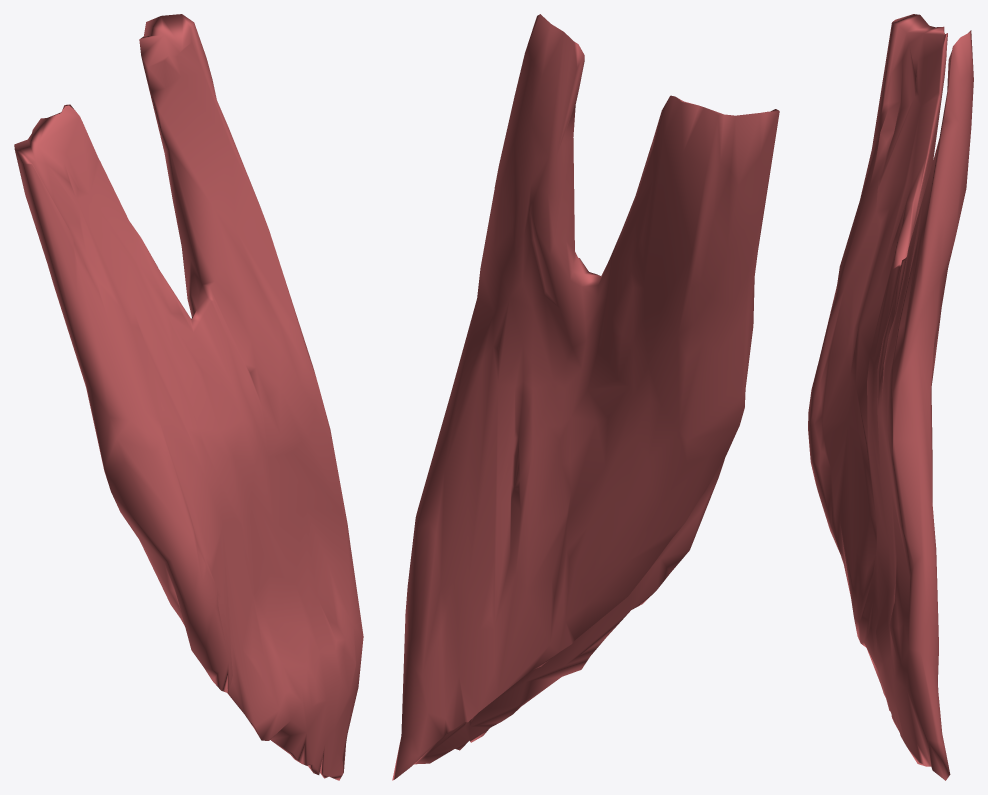
The picture shows the model from 3 angles, left to right: view 1: azimuth 30°, elevation 25°; view 2: azimuth 150°, elevation 25°; view 3: azimuth 270°, elevation 25°; orthographic projection. The views are drawn at different scales.
Visible parts, largest first — view 1: 左侧足底方肌; view 2: 左侧足底方肌; view 3: 左侧足底方肌.
Boxes of the visible parts, x1,y1,x2,y2 form: 左侧足底方肌: [14, 14, 363, 780]; 左侧足底方肌: [392, 14, 779, 780]; 左侧足底方肌: [808, 14, 973, 780].
Bounding box in the file's own units: 0.0525 × 0.1132 × 0.025.
